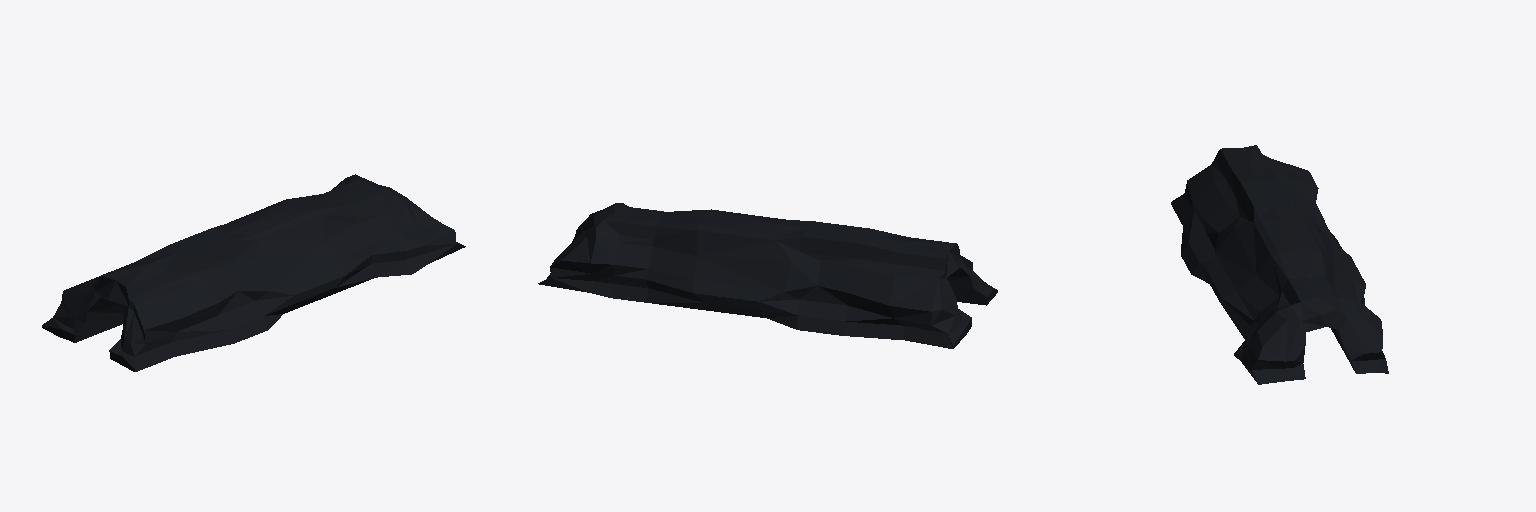
The model's file is Cave1.obj.
The picture shows the model from 3 angles: view 1: azimuth 30°, elevation 25°; view 2: azimuth 150°, elevation 25°; view 3: azimuth 270°, elevation 25°; orthographic projection.
Parts seen in each view (by area): view 1: Cave1:group Cave1:pasted__polySurface1 Cave1:polySurface4 Cave1:; view 2: Cave1:group Cave1:pasted__polySurface1 Cave1:polySurface4 Cave1:; view 3: Cave1:group Cave1:pasted__polySurface1 Cave1:polySurface4 Cave1:.
Part boxes in pixels (x1,y1,x2,y2): Cave1:group Cave1:pasted__polySurface1 Cave1:polySurface4 Cave1:: (42,174,465,371); Cave1:group Cave1:pasted__polySurface1 Cave1:polySurface4 Cave1:: (538,203,997,348); Cave1:group Cave1:pasted__polySurface1 Cave1:polySurface4 Cave1:: (1171,145,1388,384).
Bounding box in the file's own units: 186 × 30.24 × 88.09.